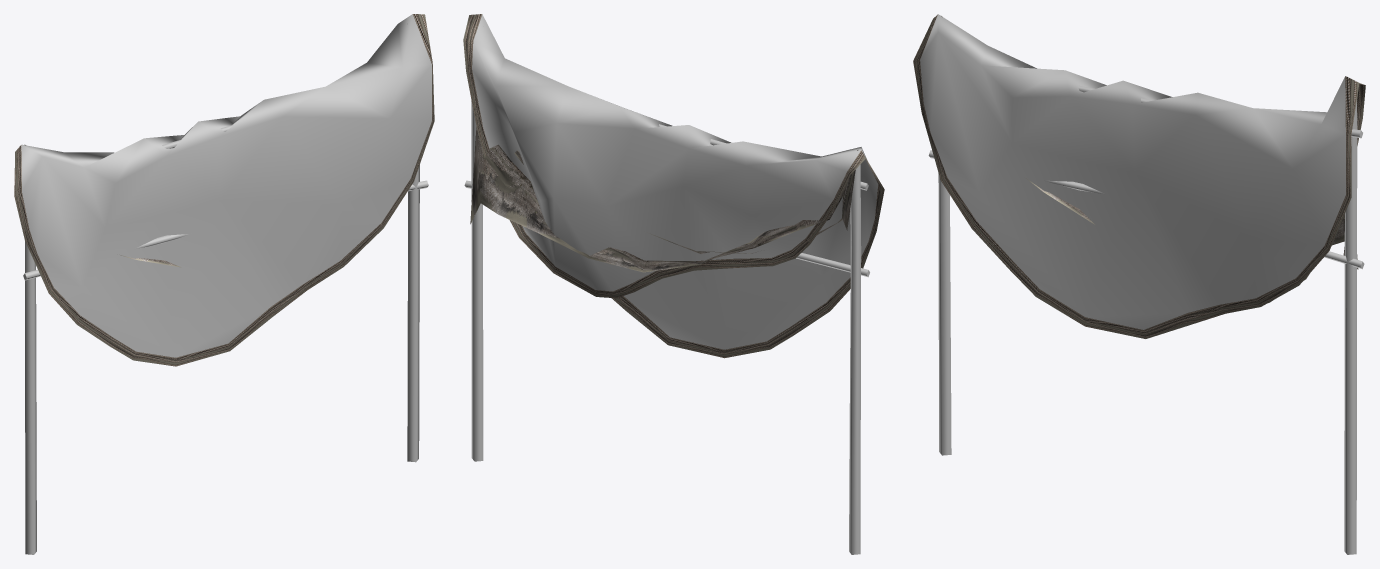
The model's file is Fishnet3_LOD1.fbx.
3 renders of one model, left to right at view 1: azimuth 30°, elevation 25°; view 2: azimuth 150°, elevation 25°; view 3: azimuth 330°, elevation 25°, orthographic. The views are drawn at different scales.
Parts seen in each view (by area): view 1: polySurface1193; view 2: polySurface1193; view 3: polySurface1193.
Boxes of the visible parts, <box> form: polySurface1193: <box>14,14,434,554</box>; polySurface1193: <box>463,14,884,554</box>; polySurface1193: <box>913,14,1365,554</box>.
Size of the model in its own units: 7.74 by 7.95 by 1.12.
